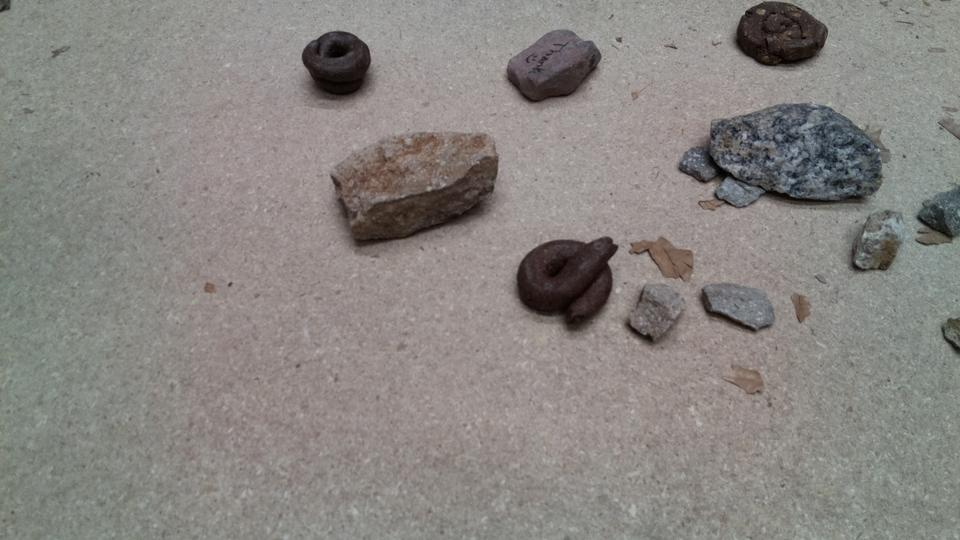poop: (513, 233, 622, 330), (735, 1, 829, 70), (299, 29, 374, 97)
